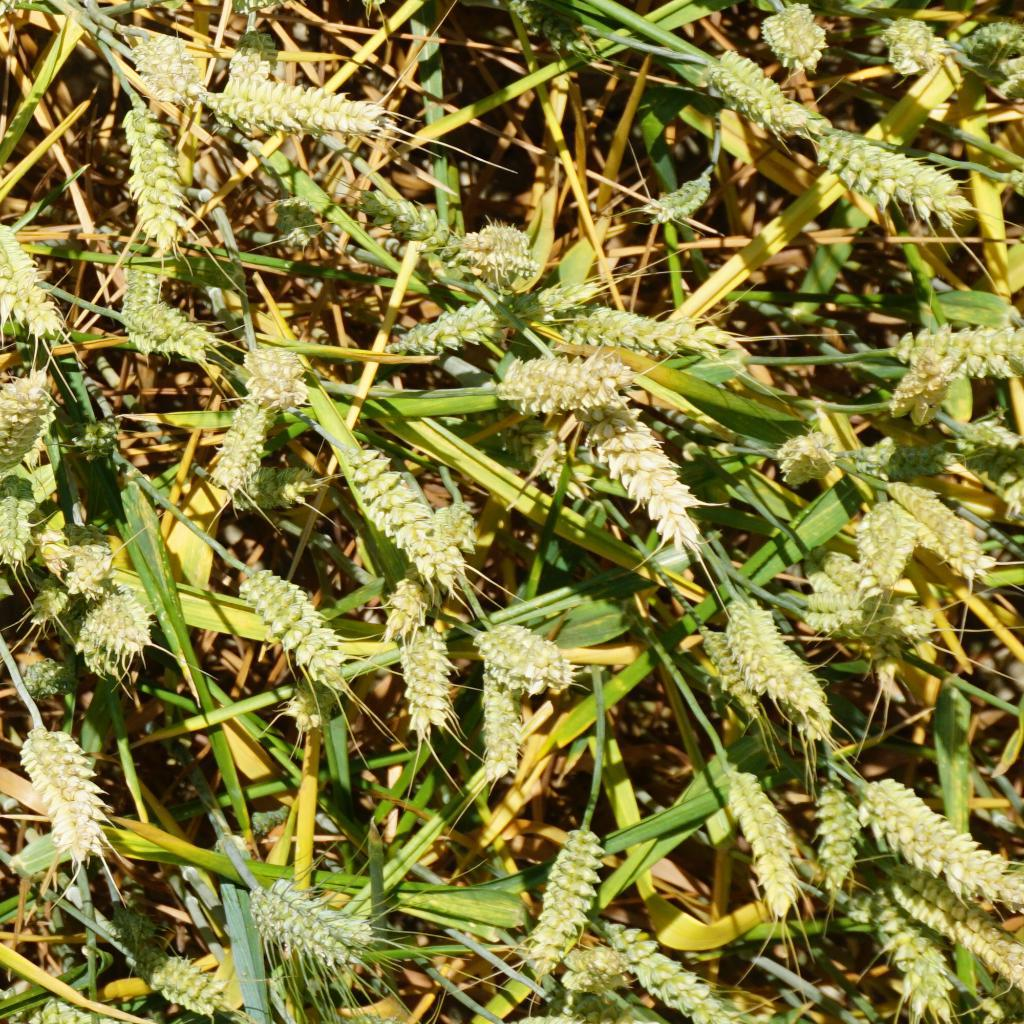0-0: (585, 401, 703, 543), (859, 774, 1004, 884), (713, 762, 802, 910), (815, 128, 954, 219), (893, 866, 1020, 965), (868, 891, 960, 1024), (213, 69, 382, 141), (519, 815, 601, 962), (108, 102, 192, 245), (26, 730, 114, 865), (731, 600, 829, 715), (357, 458, 453, 571), (607, 922, 713, 1021), (889, 480, 991, 576), (232, 570, 344, 656), (489, 352, 634, 418), (351, 182, 464, 264), (563, 306, 719, 359), (713, 50, 807, 135), (0, 226, 63, 340), (631, 160, 734, 229), (391, 622, 455, 732), (388, 301, 536, 346), (270, 890, 357, 966), (892, 324, 1024, 374), (804, 764, 857, 881), (476, 619, 566, 687), (463, 217, 550, 287), (125, 301, 216, 366), (473, 671, 526, 779), (853, 425, 956, 480), (281, 663, 363, 729), (136, 956, 230, 1013), (212, 395, 267, 492), (508, 0, 591, 64), (129, 33, 204, 102), (793, 585, 880, 644), (847, 507, 913, 582), (239, 343, 314, 406), (764, 0, 834, 66), (228, 15, 274, 108), (806, 547, 877, 607), (84, 598, 152, 660), (516, 416, 585, 477), (233, 453, 312, 506), (699, 622, 752, 701), (381, 577, 440, 645), (14, 648, 78, 708), (116, 896, 171, 963), (552, 940, 624, 991), (0, 377, 44, 459), (878, 19, 939, 78), (119, 252, 161, 334), (15, 577, 77, 629), (772, 429, 837, 478), (886, 366, 946, 419), (969, 425, 1024, 481), (873, 592, 931, 644), (979, 841, 1024, 906), (0, 467, 32, 558), (66, 541, 119, 594), (0, 0, 64, 43), (273, 189, 318, 248), (959, 15, 1024, 55), (73, 417, 118, 457), (989, 57, 1024, 102), (342, 0, 390, 13)
